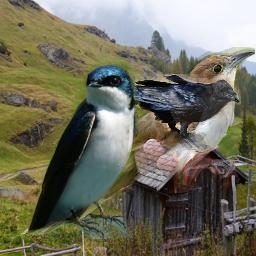Crow: (91, 74, 241, 154)
Cuckoo: (17, 47, 255, 236)
Swallow: (28, 62, 142, 239)
